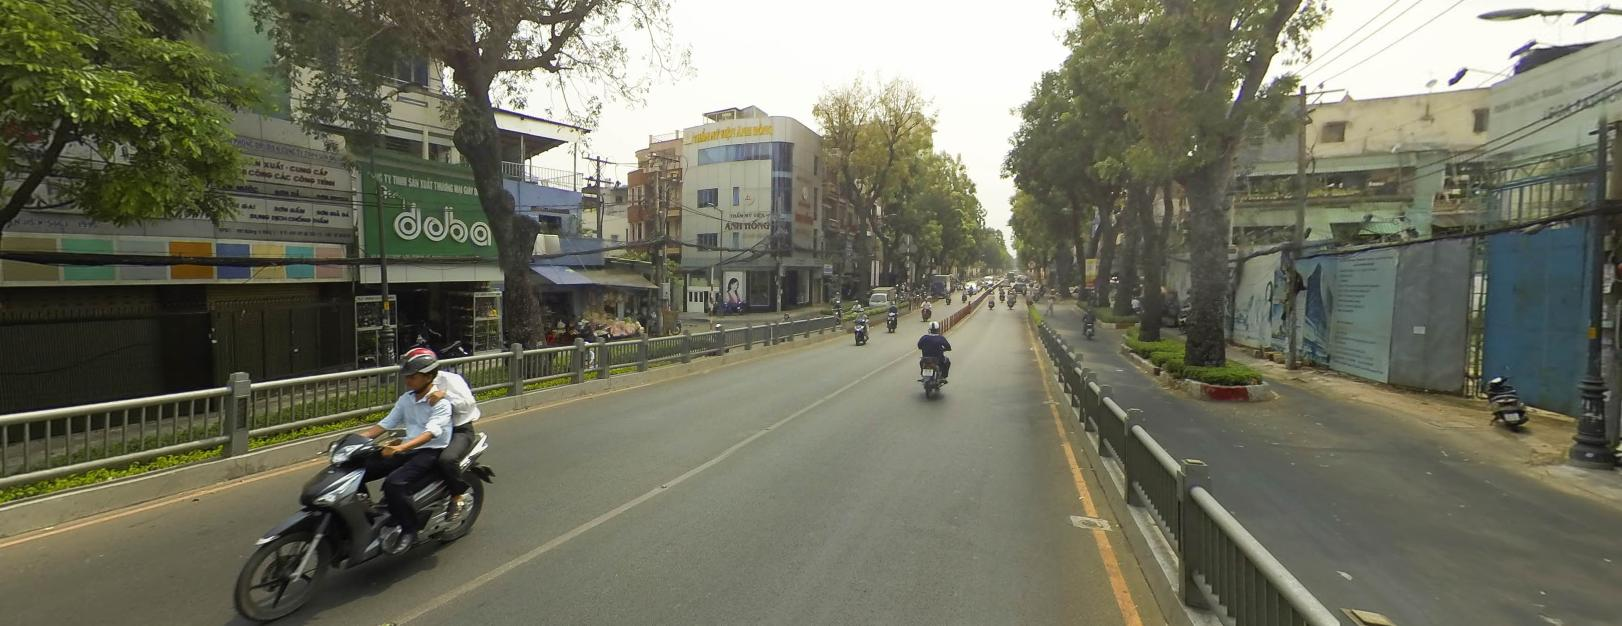Cam re: (1026, 257, 1037, 266)
